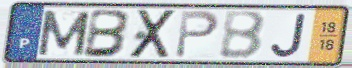B: (81, 8, 134, 59), (218, 10, 268, 61)
J: (270, 12, 309, 59)
M: (35, 9, 93, 57)
P: (173, 9, 222, 60)
X: (127, 8, 180, 60)
